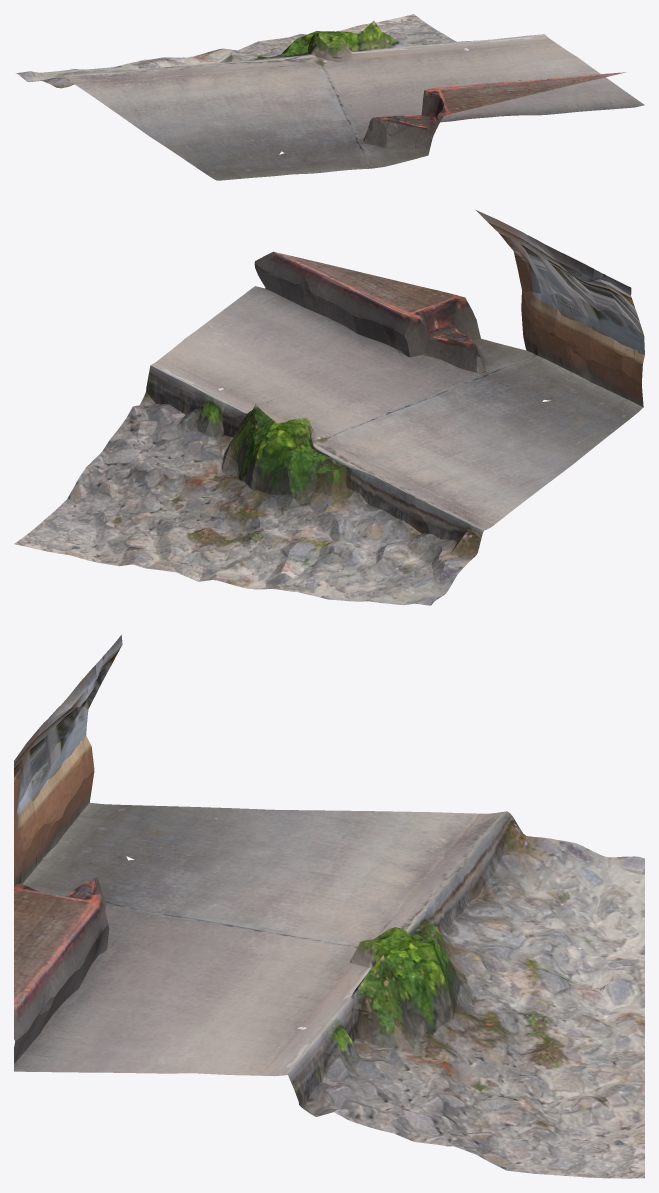
3 renders of one model, top to bottom at view 1: azimuth 30°, elevation 25°; view 2: azimuth 150°, elevation 25°; view 3: azimuth 270°, elevation 25°, orthographic. The views are drawn at different scales.
Bounding box in the file's own units: 8.36 × 4.05 × 8.36.
Materials: 3 (3 with a texture image).
